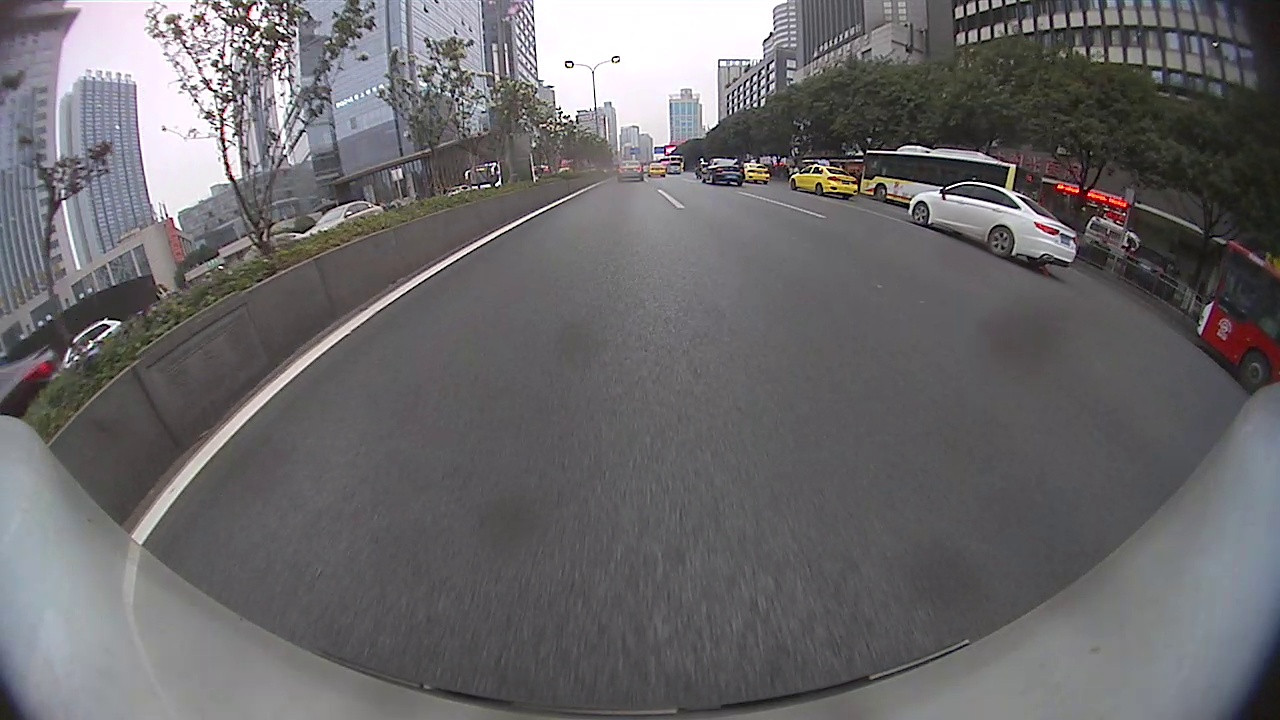bus: (1196, 242, 1279, 398), (860, 145, 1042, 207)
car: (906, 177, 1080, 269), (1, 345, 60, 415), (56, 318, 125, 370), (1125, 243, 1179, 300), (305, 201, 383, 238), (788, 160, 860, 199), (701, 159, 746, 185), (743, 162, 773, 185), (615, 161, 645, 183)
front: (1236, 352, 1269, 394), (911, 203, 933, 228), (875, 185, 886, 204)
rear: (987, 226, 1013, 260)
